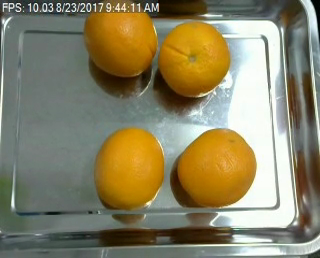Orange: (176, 127, 255, 208), (94, 128, 166, 210), (157, 20, 230, 98), (83, 13, 158, 78)
